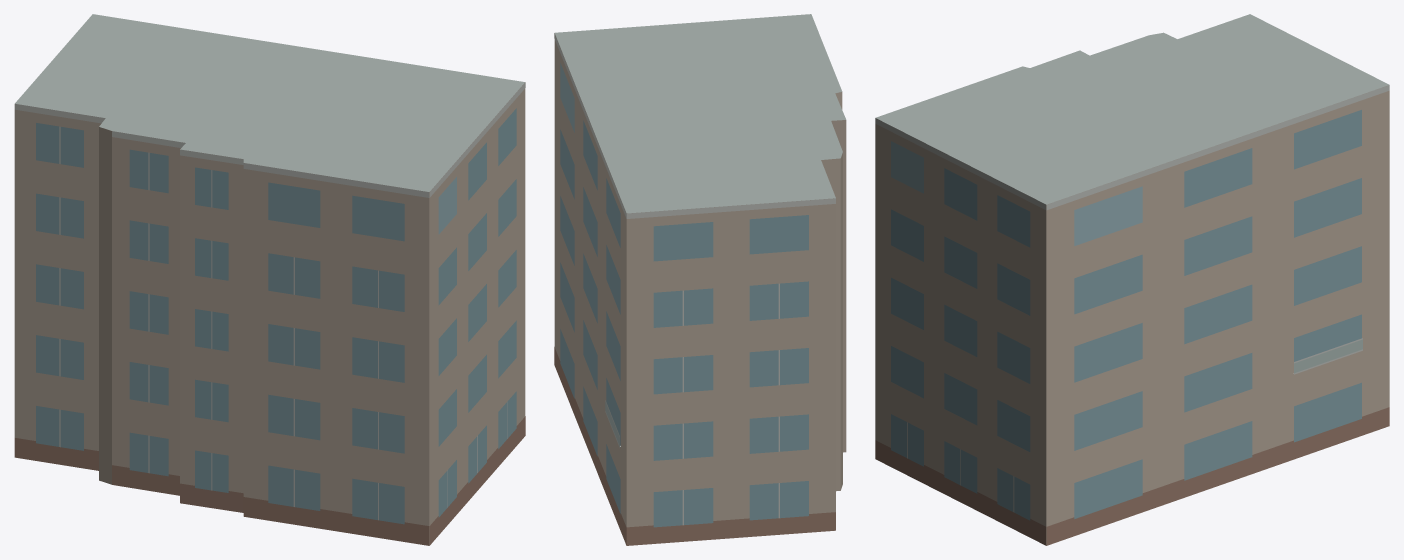
File: survey-upis-32691791.glb
3 renders of one model, left to right at view 1: azimuth 30°, elevation 25°; view 2: azimuth 150°, elevation 25°; view 3: azimuth 270°, elevation 25°, orthographic. The views are drawn at different scales.
Visible parts, largest first — view 1: survey-upis-32691791.tmp; view 2: survey-upis-32691791.tmp; view 3: survey-upis-32691791.tmp.
Boxes of the visible parts, box(x1,y1,x2,y2) form: survey-upis-32691791.tmp: box(14, 14, 525, 545); survey-upis-32691791.tmp: box(554, 14, 846, 545); survey-upis-32691791.tmp: box(875, 14, 1389, 545).
Bounding box in the file's own units: 17.39 × 14.5 × 19.82.
